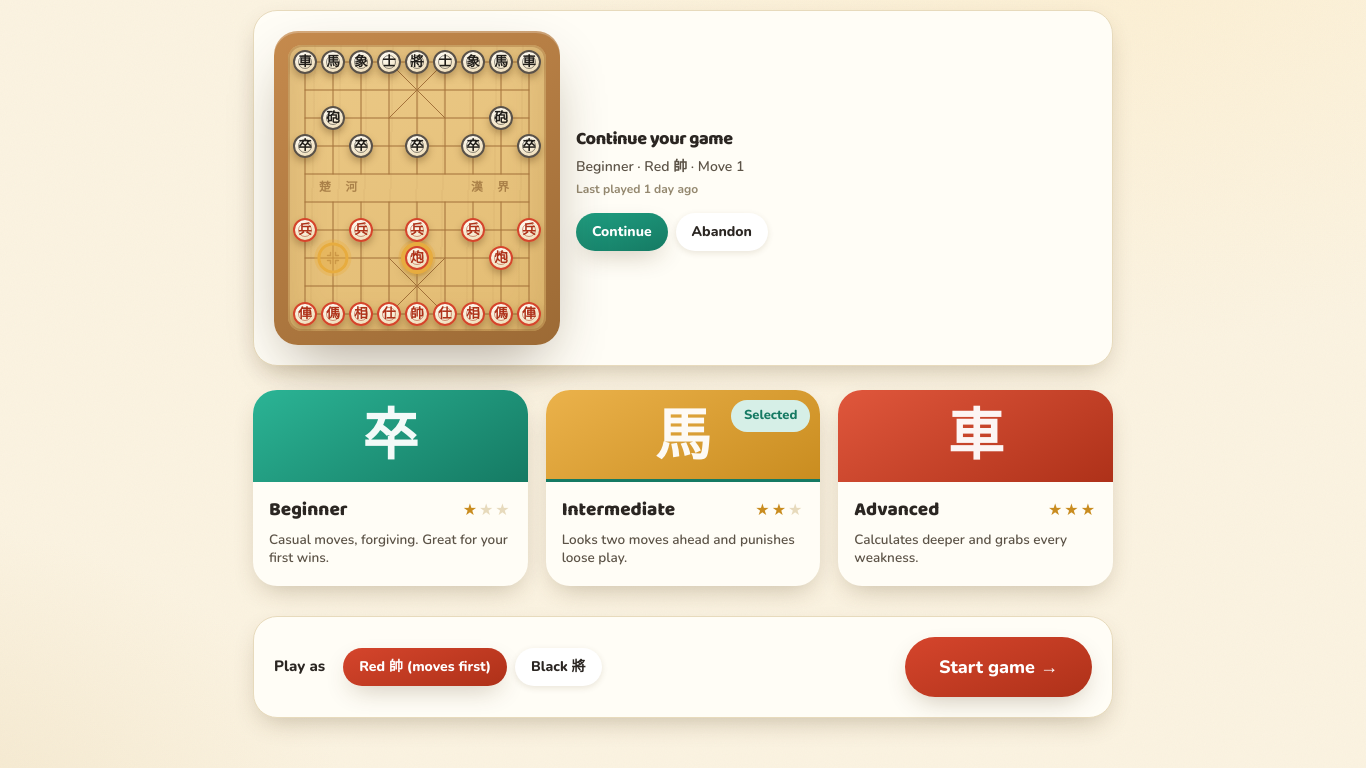
it: PlayScreen save/resume › confirms before starting a new game when a save exists
(page scrolled)
Expected: the element with test id "continue-saved-game" is shown, [253, 10, 1113, 366]
Click the button "Start game →" at (998, 667), box [905, 637, 1092, 697]
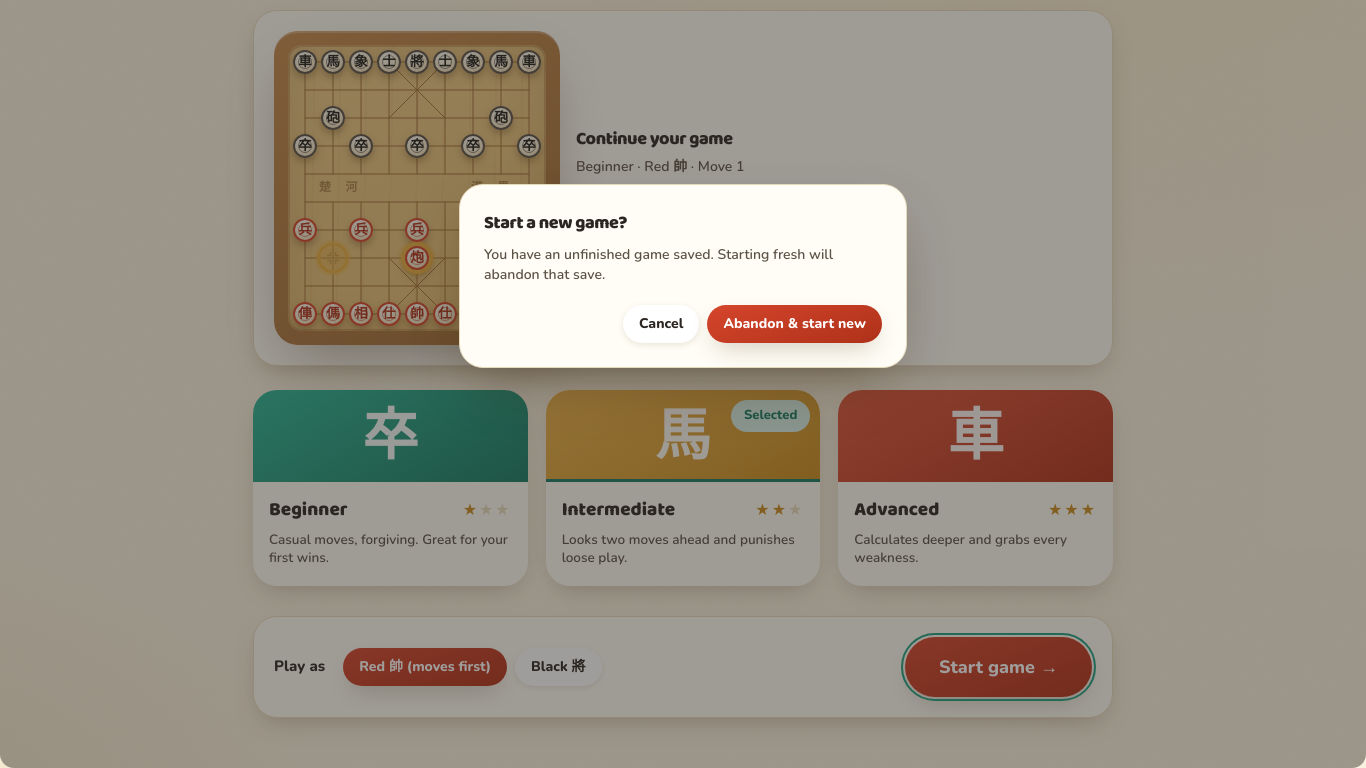
Expected: the element with test id "new-game-confirm" is shown, [459, 184, 907, 368]
Click the button "Abandon & start new" at (795, 324), box [707, 305, 882, 343]
(page scrolled)
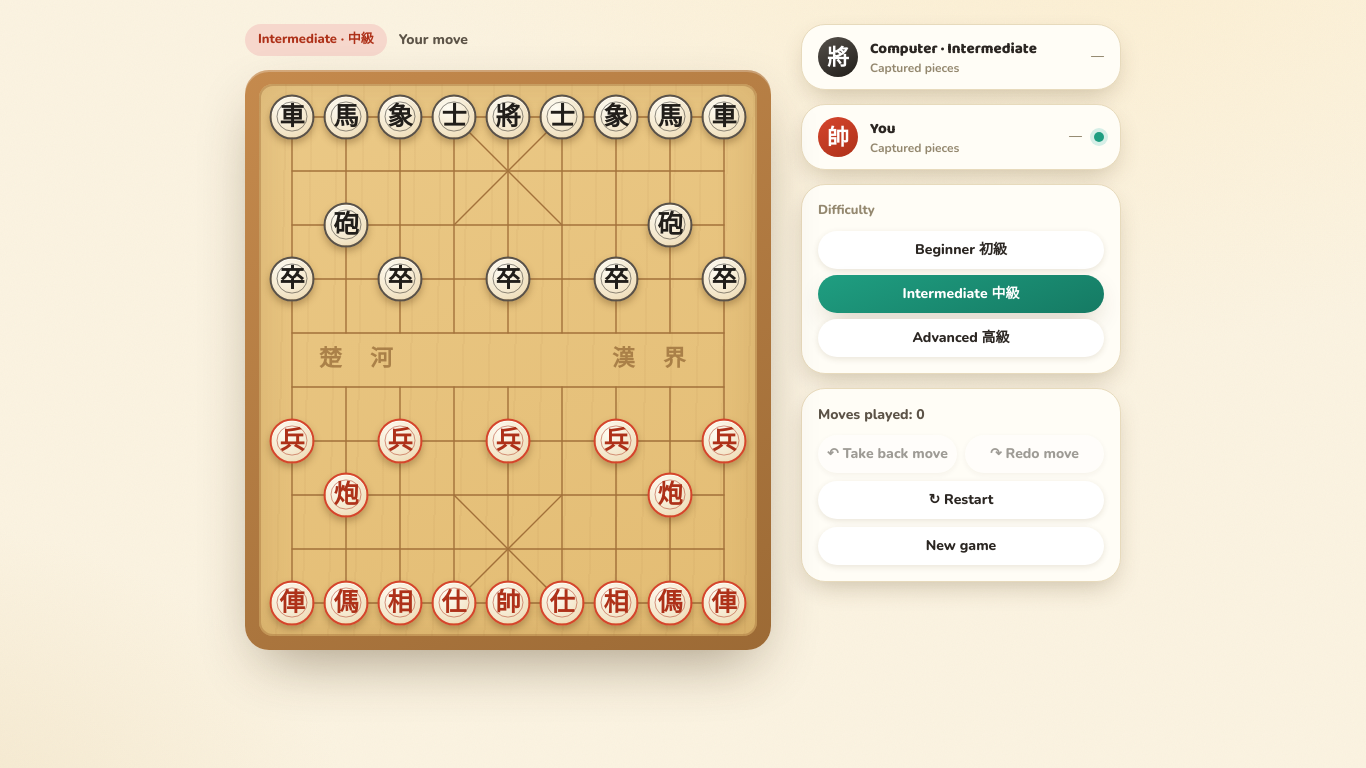
Expected: the text "Your move" is shown, [399, 30, 468, 49]
